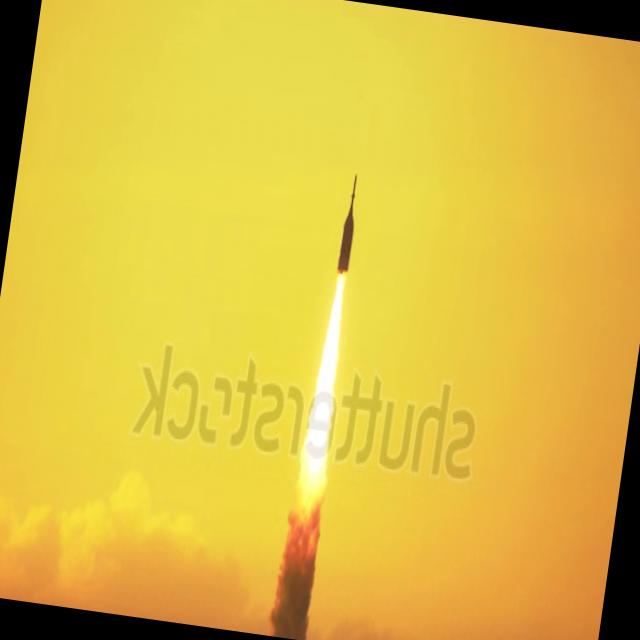rocket: (285, 150, 376, 589)
